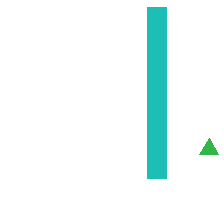rectangle: (147, 7, 166, 178)
triangle: (199, 138, 218, 154)
